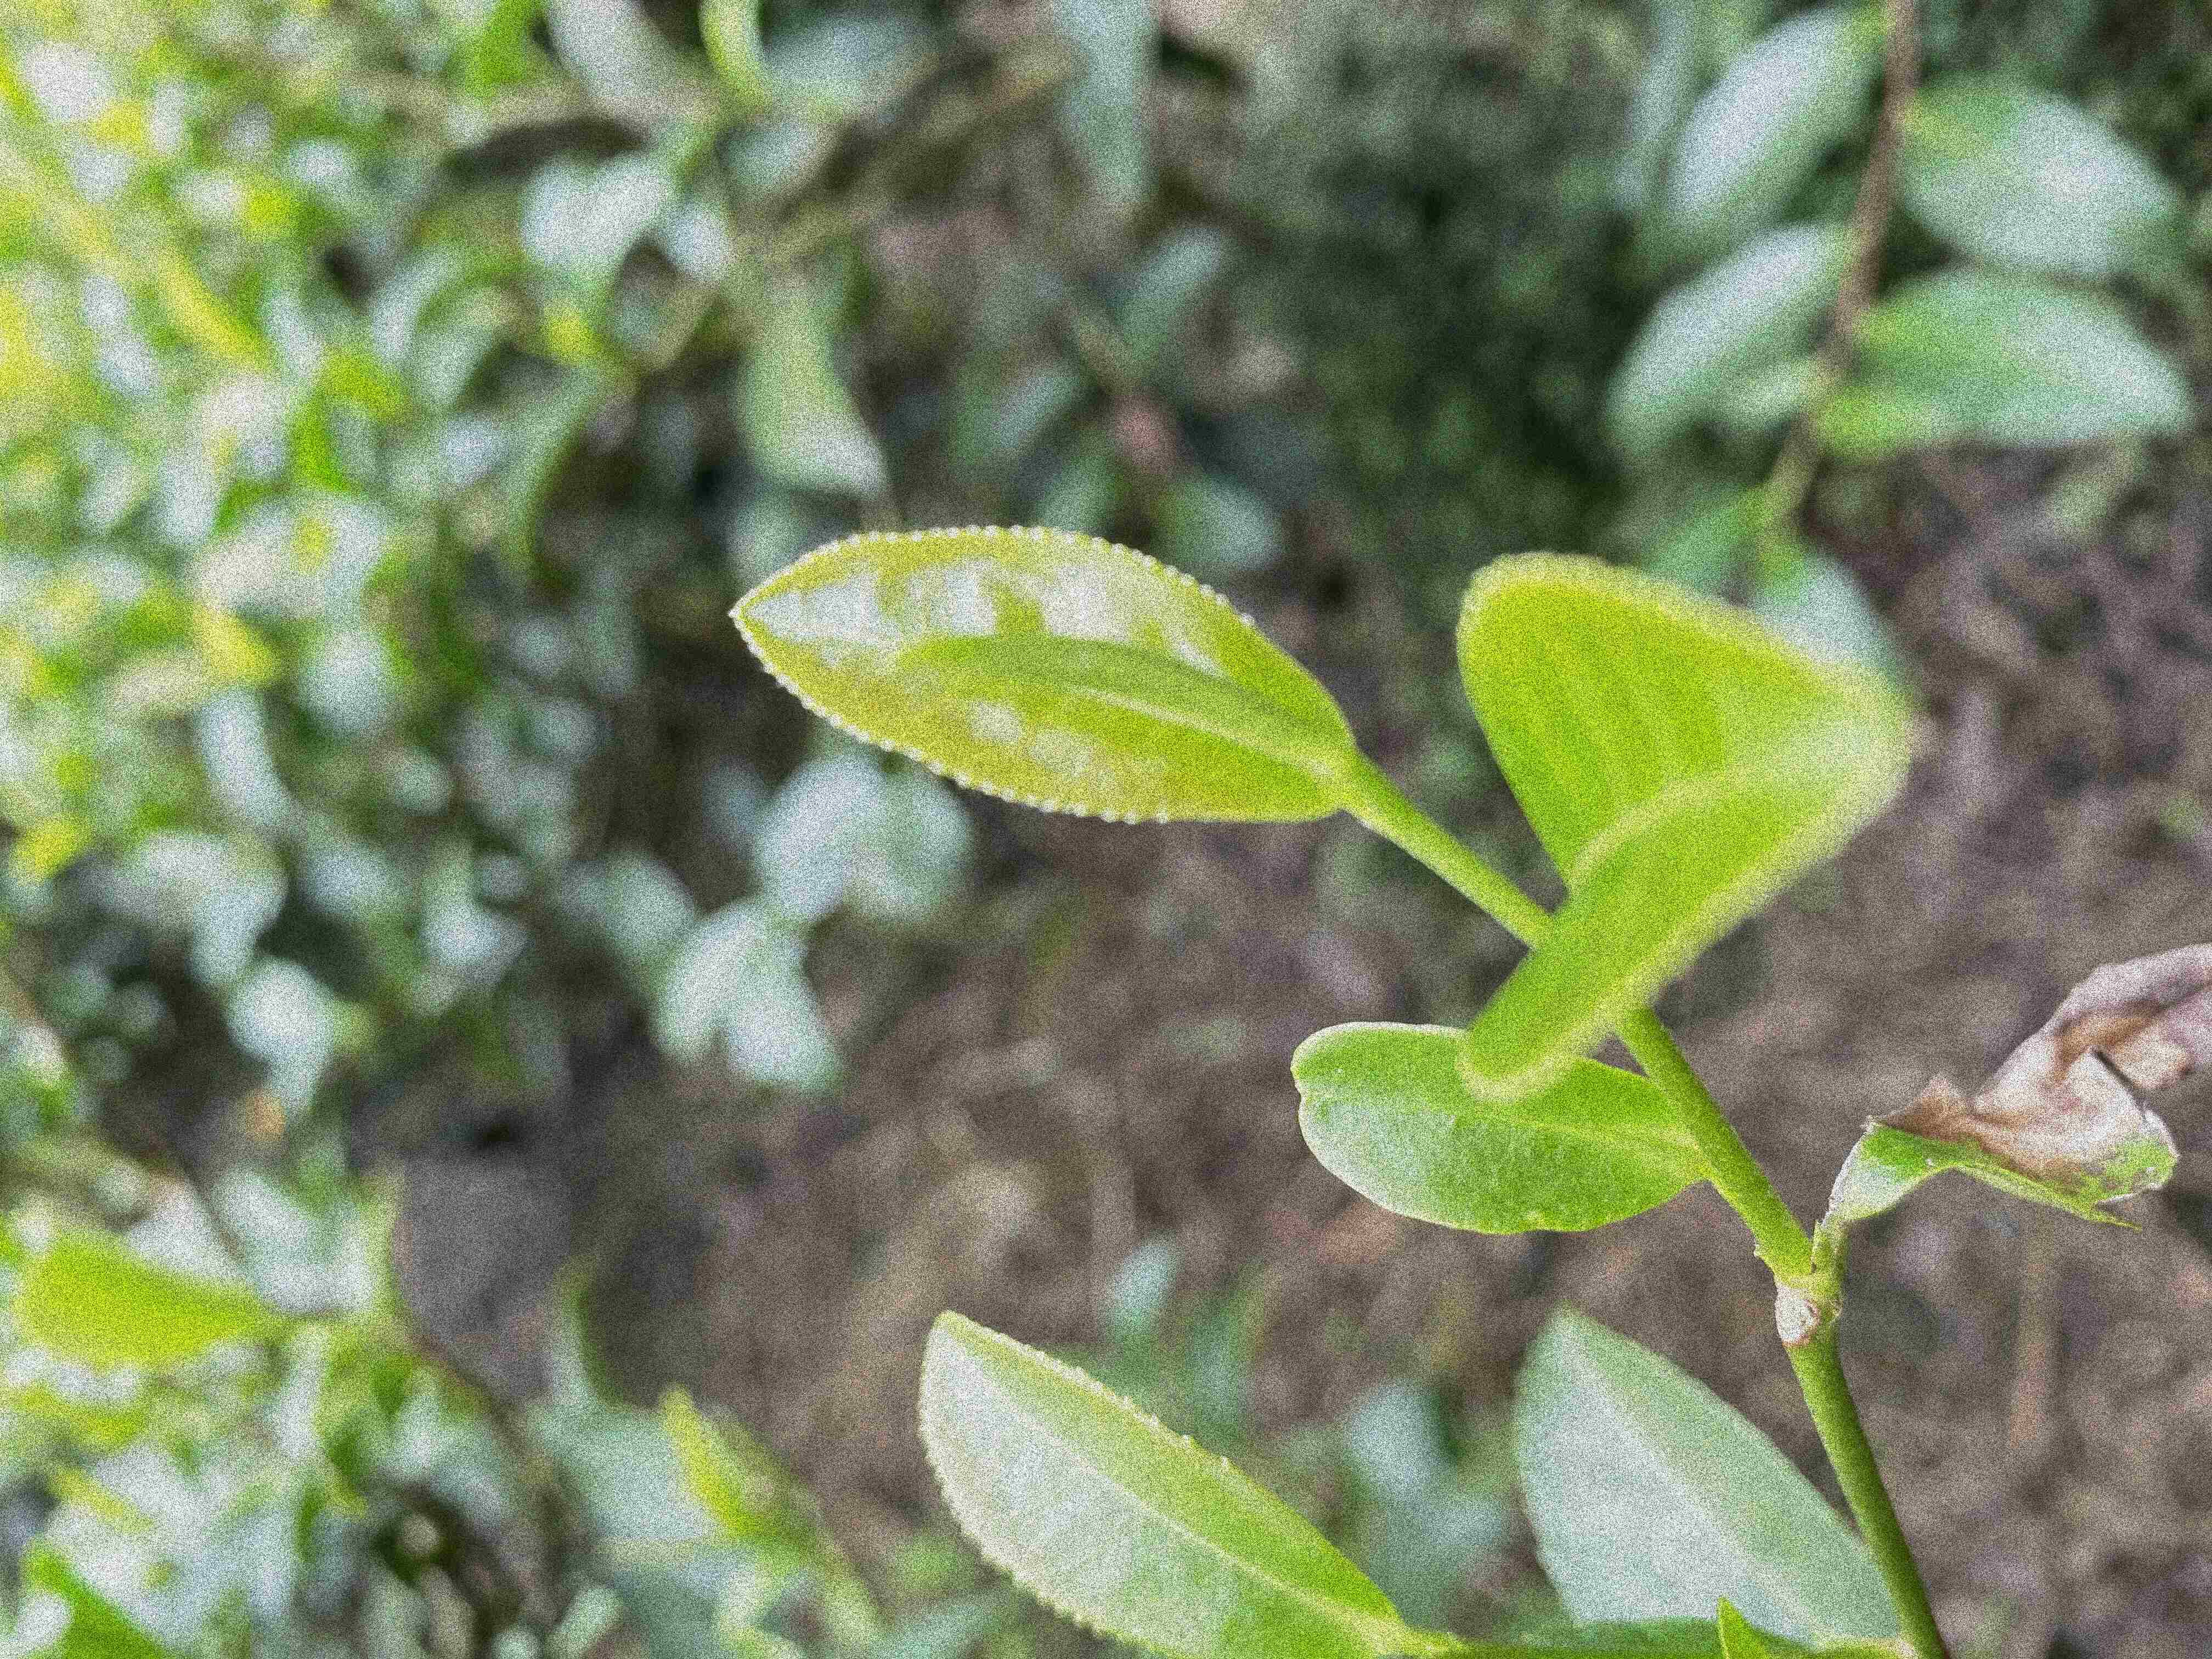healthy: (1451, 552, 1904, 1101), (732, 523, 1353, 826), (914, 1309, 1426, 1656), (1291, 1018, 1717, 1237)
tanju_high: (1810, 938, 2210, 1232)
